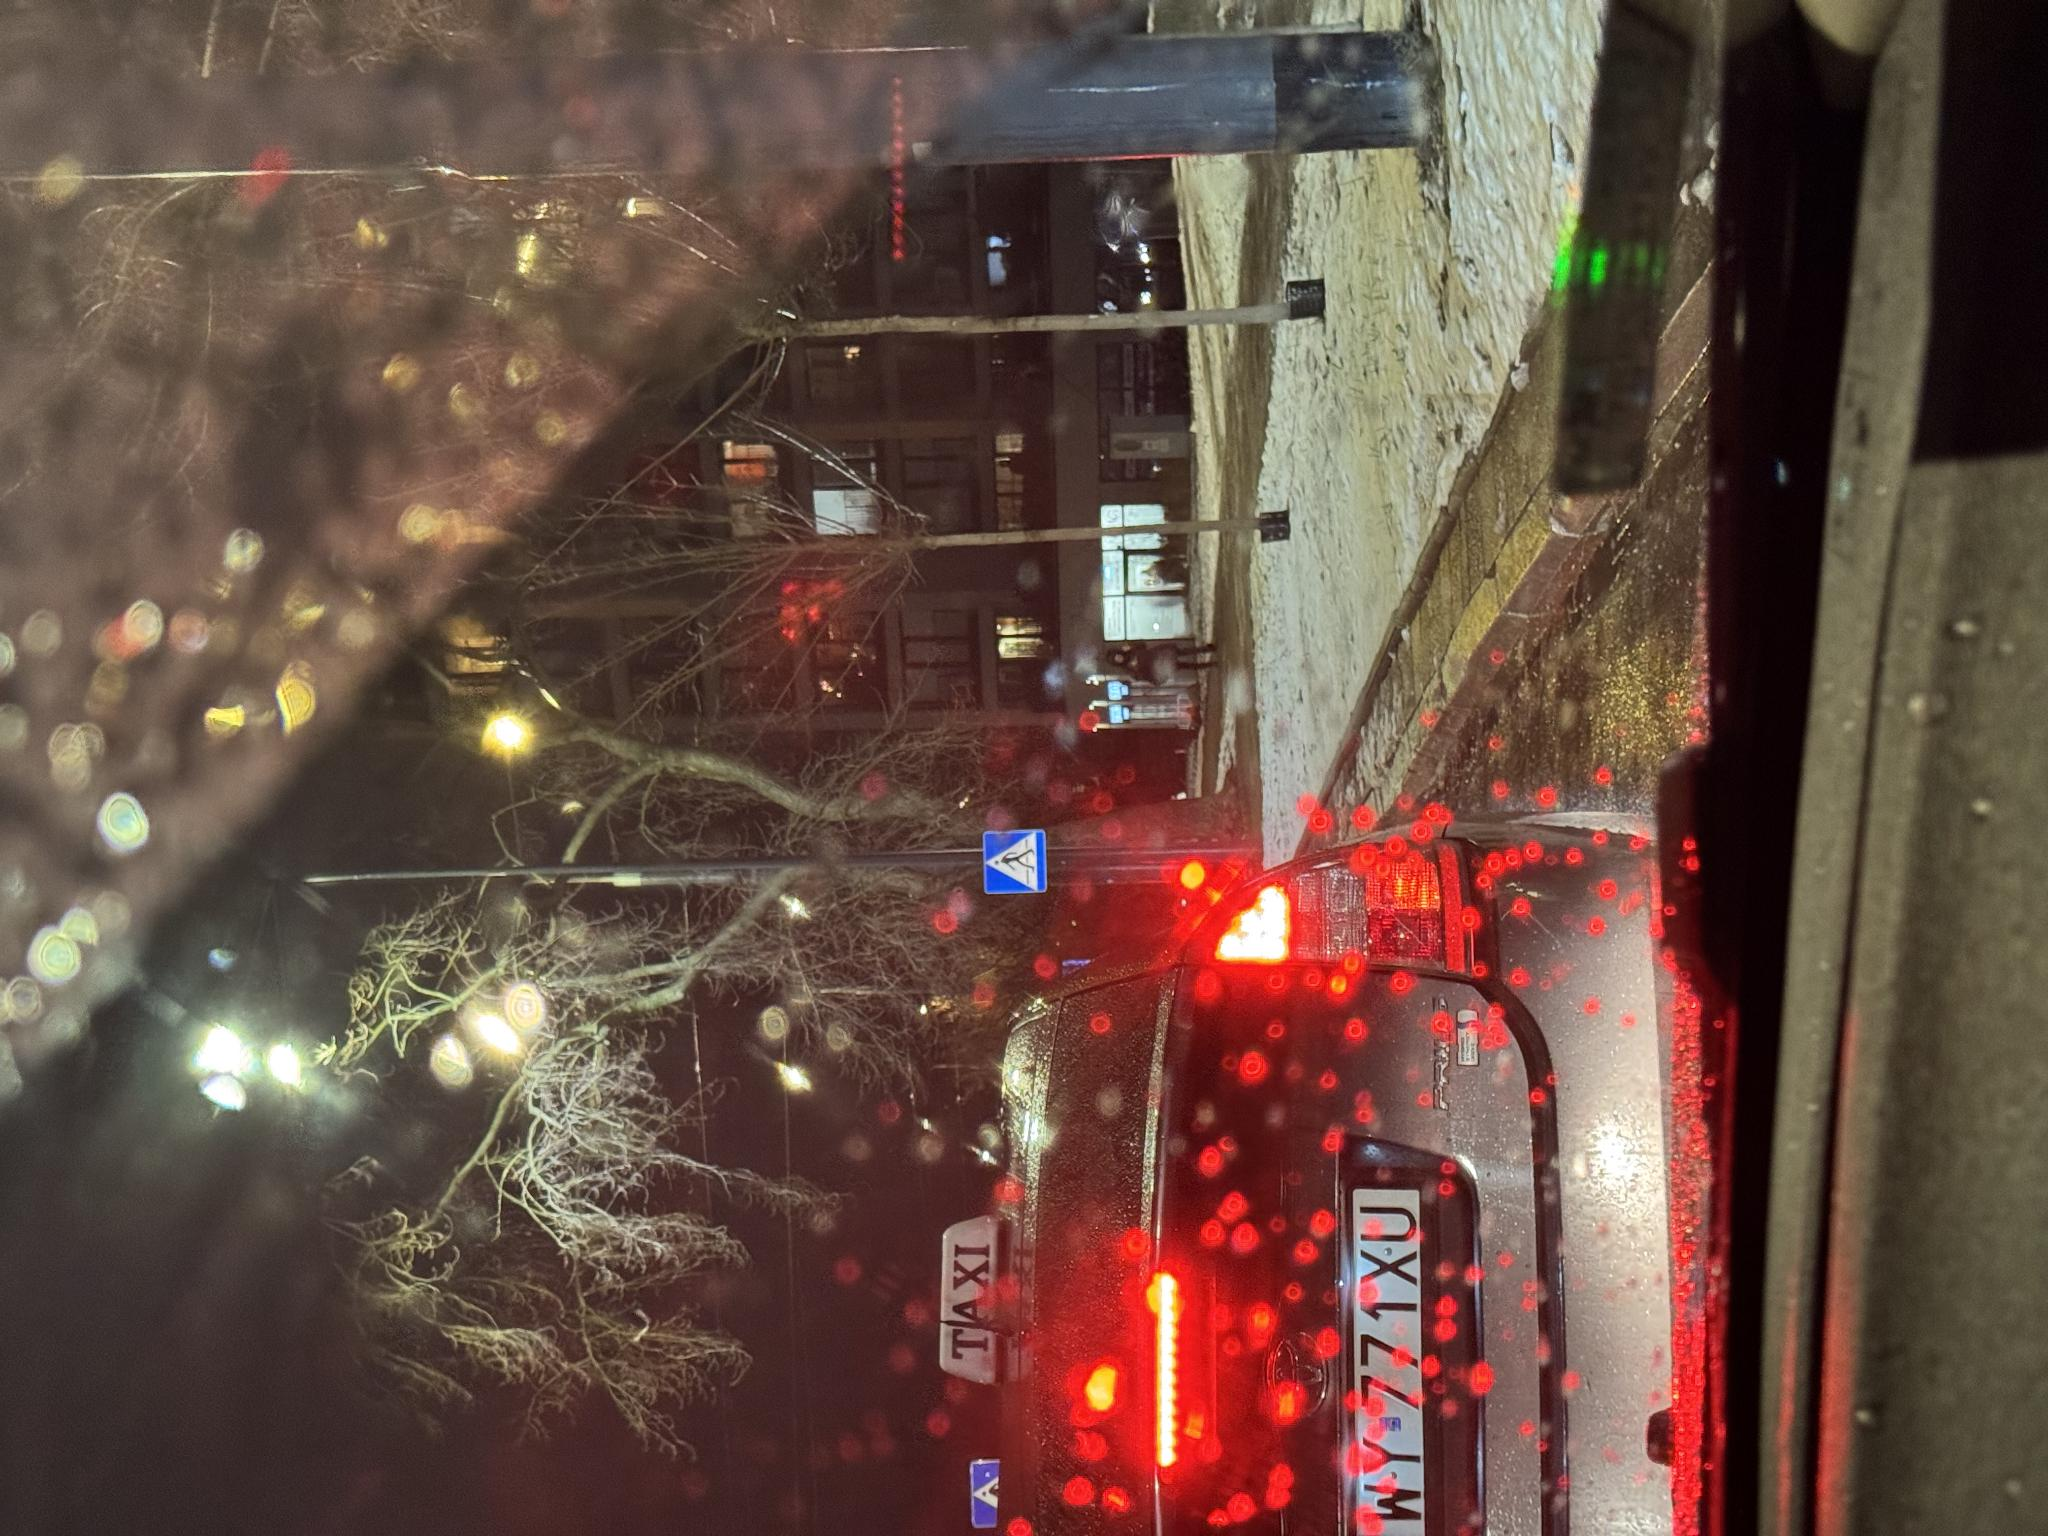information: (642, 983, 706, 1049), (10, 971, 76, 999)
